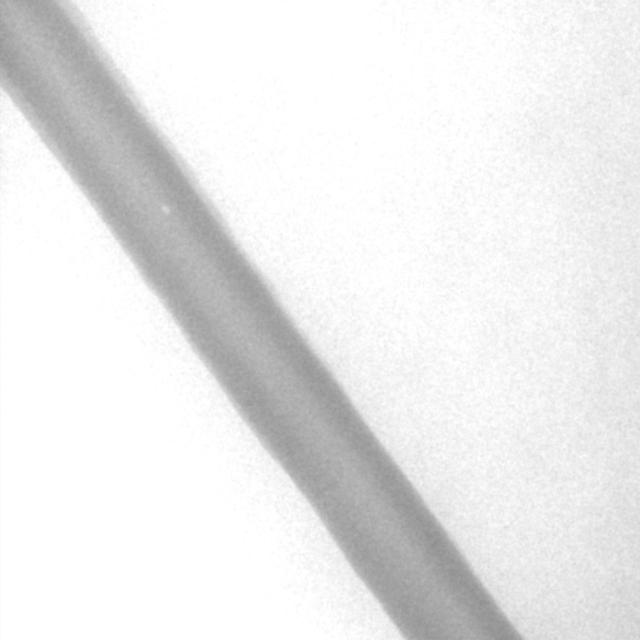air-hole: (160, 204, 166, 210)
